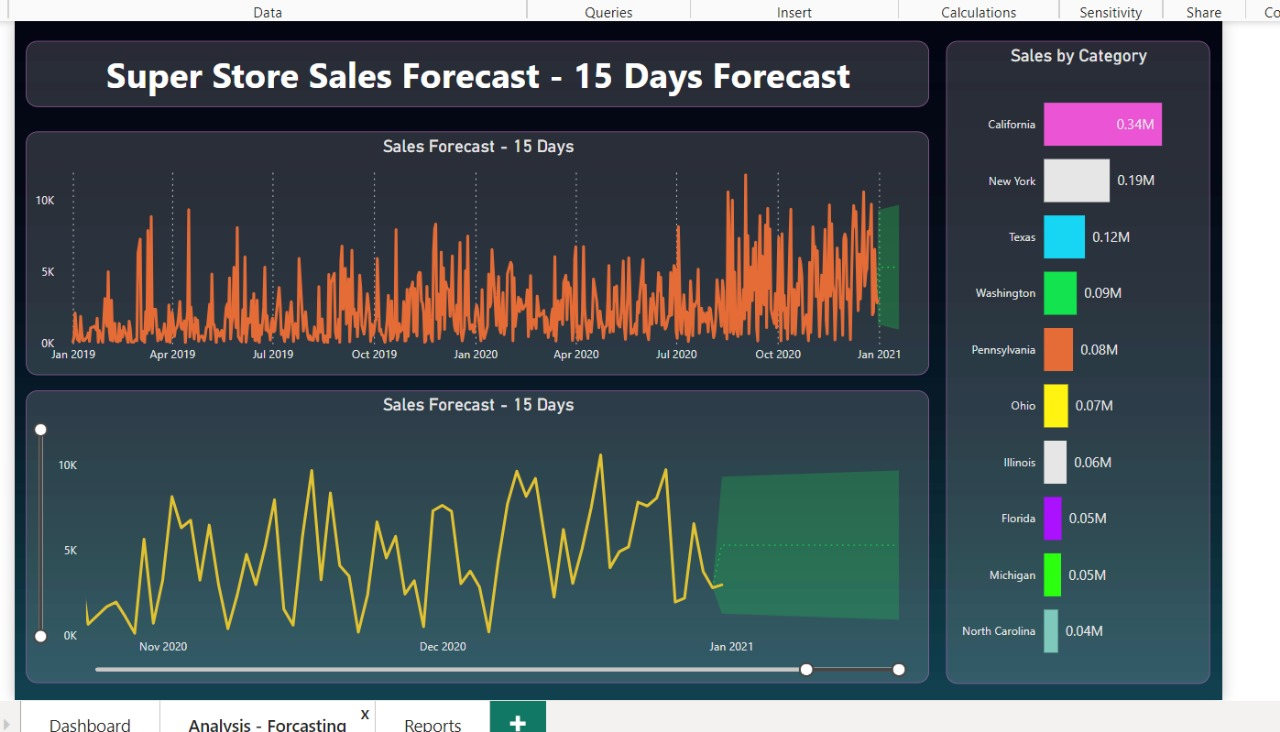

What the dashboard file says about the page in this screenshot:
{"tool":"powerbi","page":{"name":"Analysis - Forcasting","canvas":[1280,720],"ordinal":1},"visuals":[{"type":"lineChart","title":"Sales Forecast - 15 Days","fields":{"Y":["Sum(SuperStore_Sales_Dataset.Sales)"],"Category":["SuperStore_Sales_Dataset.Order Date"]},"box":[12.1,117,957.6,258.1],"z":0},{"type":"lineChart","title":"Sales Forecast - 15 Days","fields":{"Y":["Sum(SuperStore_Sales_Dataset.Sales)"],"Category":["SuperStore_Sales_Dataset.Order Date"]},"box":[12,391.6,957.3,310.6],"z":1000},{"type":"clusteredBarChart","title":" Sales by Countries","fields":{"Category":["SuperStore_Sales_Dataset.State"],"Y":["Sum(SuperStore_Sales_Dataset.Sales)"]},"box":[987.7,20.5,279.8,681.4],"z":2000},{"type":"textbox","box":[12.1,20.5,957.6,69.9],"z":3000}]}

Visuals, with their boxes on the page's 1280x720 design canvas (x1, y1, x2, y2). These are canvas units, not pixel positions in the 1280x732 screenshot, which may show the page scaled, cropped or inside an application window:
"Sales Forecast - 15 Days" lineChart: [x1=12, y1=117, x2=970, y2=375]
"Sales Forecast - 15 Days" lineChart: [x1=12, y1=392, x2=969, y2=702]
" Sales by Countries" clusteredBarChart: [x1=988, y1=20, x2=1268, y2=702]
textbox: [x1=12, y1=20, x2=970, y2=90]
